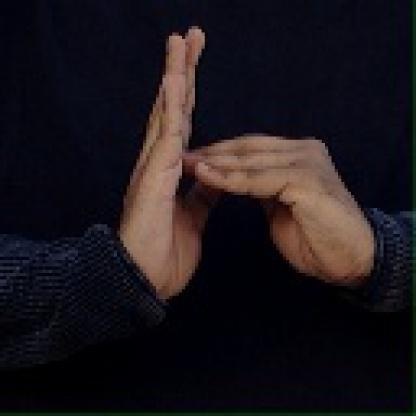Z: (113, 26, 350, 294)
